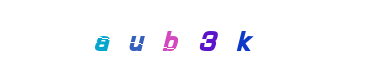3: (156, 0, 236, 80)
A: (74, 0, 154, 80)
B: (142, 0, 222, 80)
K: (169, 0, 249, 80)
U: (138, 0, 218, 80)
